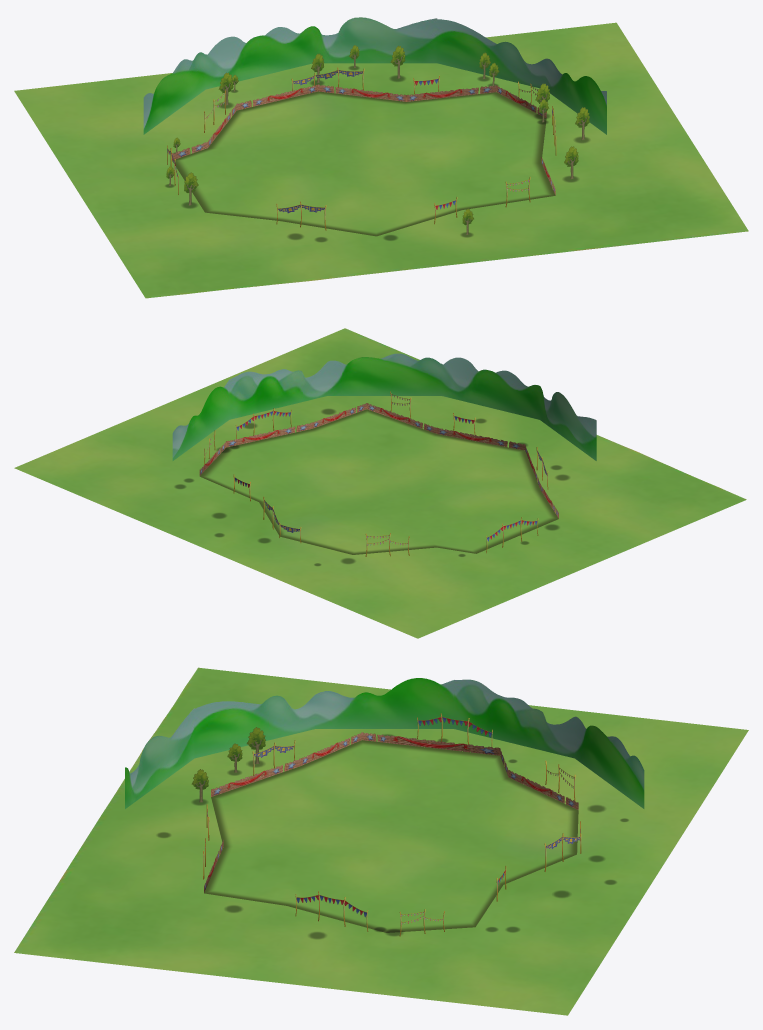
The model's file is party_grounds.glb.
3 views of the same model, one above another, from view 1: azimuth 30°, elevation 25°; view 2: azimuth 150°, elevation 25°; view 3: azimuth 270°, elevation 25° (orthographic). The views are drawn at different scales.
Visible parts, largest first — view 1: partyGrounds_ground, hill_flat, partyGrounds_wall_shadow, partyGrounds_wall; view 2: partyGrounds_ground, hill_flat, partyGrounds_wall_shadow, partyGrounds_wall; view 3: partyGrounds_ground, hill_flat, partyGrounds_wall_shadow, partyGrounds_wall.
Part boxes in pixels (<box>): partyGrounds_ground: <box>14,22,748,298</box>; hill_flat: <box>143,17,606,134</box>; partyGrounds_wall_shadow: <box>172,91,555,236</box>; partyGrounds_wall: <box>172,84,555,195</box>; partyGrounds_ground: <box>14,328,746,638</box>; hill_flat: <box>172,353,596,460</box>; partyGrounds_wall_shadow: <box>200,409,558,554</box>; partyGrounds_wall: <box>199,403,558,518</box>; partyGrounds_ground: <box>14,667,748,1015</box>; hill_flat: <box>125,678,644,808</box>; partyGrounds_wall_shadow: <box>204,740,578,932</box>; partyGrounds_wall: <box>204,732,578,892</box>.
Size of the model in its own units: 590 by 43.59 by 526.
Materials: 8 (8 with a texture image).
